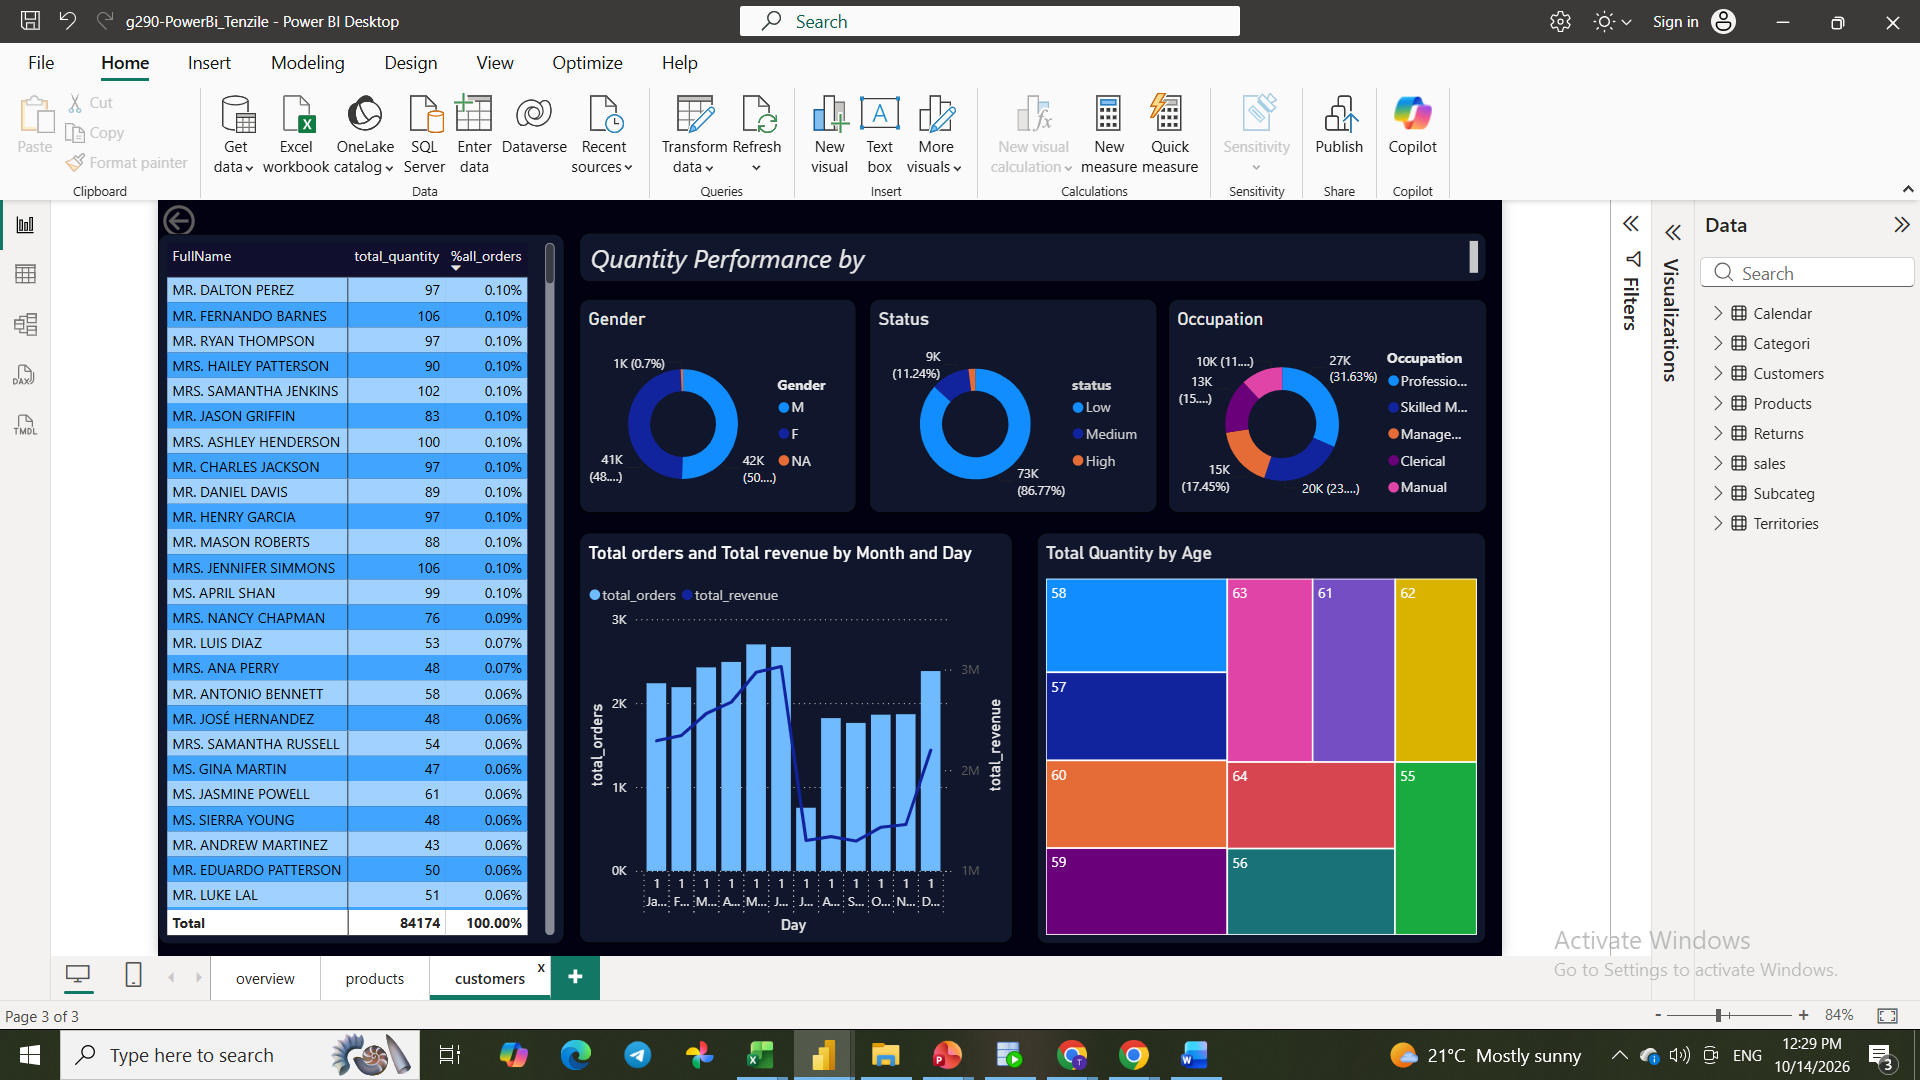

The dashboard page shown, as its layout file describes it:
{"tool":"powerbi","page":{"name":"customers","canvas":[1280,720],"ordinal":2},"visuals":[{"type":"actionButton","box":[0,0,100,40],"z":0},{"type":"donutChart","title":"Status","fields":{"Y":["sales.total_quantity"],"Category":["Customers.status"]},"box":[676.9,93.6,274.4,203.8],"z":1000},{"type":"donutChart","title":"Occupation","fields":{"Y":["sales.total_quantity"],"Category":["Customers.Occupation"]},"box":[961.5,93.6,303.8,203.8],"z":2000},{"type":"donutChart","title":"Gender","fields":{"Y":["sales.total_quantity"],"Category":["Customers.Gender"]},"box":[401.3,93.6,264.1,203.8],"z":3000},{"type":"pivotTable","fields":{"Rows":["Customers.FullName"],"Values":["sales.total_quantity","sales.%all_orders"]},"box":[0,32.1,387.2,676.9],"z":4000},{"type":"treemap","title":"Total Quantity by Age","fields":{"Group":["Customers.Age"],"Values":["sales.total_quantity"]},"box":[837.2,316.7,428.2,392.3],"z":5000},{"type":"lineStackedColumnComboChart","title":"Total orders and Total revenue by Month and Day","fields":{"Y":["Returns.total_orders"],"Y2":["sales.total_revenue"],"Category":["Calendar.Start of Month.Variation.Date Hierarchy.Month","Calendar.Start of Month.Variation.Date Hierarchy.Day"]},"box":[401.3,316.7,412.8,391],"z":6000},{"type":"textbox","box":[401.3,30.8,864.1,47.4],"z":7000}]}

Visuals, with their boxes on the page's 1280x720 design canvas (x1, y1, x2, y2). These are canvas units, not pixel positions in the 1920x1080 screenshot, which may show the page scaled, cropped or inside an application window:
actionButton: 0/0/100/40
"Status" donutChart: 677/94/951/297
"Occupation" donutChart: 962/94/1265/297
"Gender" donutChart: 401/94/665/297
pivotTable - Customers.FullName x sales.total_quantity: 0/32/387/709
"Total Quantity by Age" treemap: 837/317/1265/709
"Total orders and Total revenue by Month and Day" lineStackedColumnComboChart: 401/317/814/708
textbox: 401/31/1265/78
